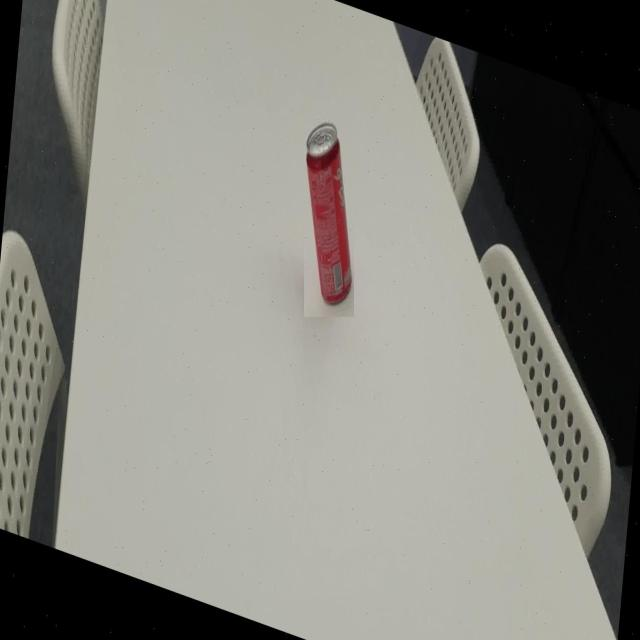coca-cola: (304, 115, 354, 317)
